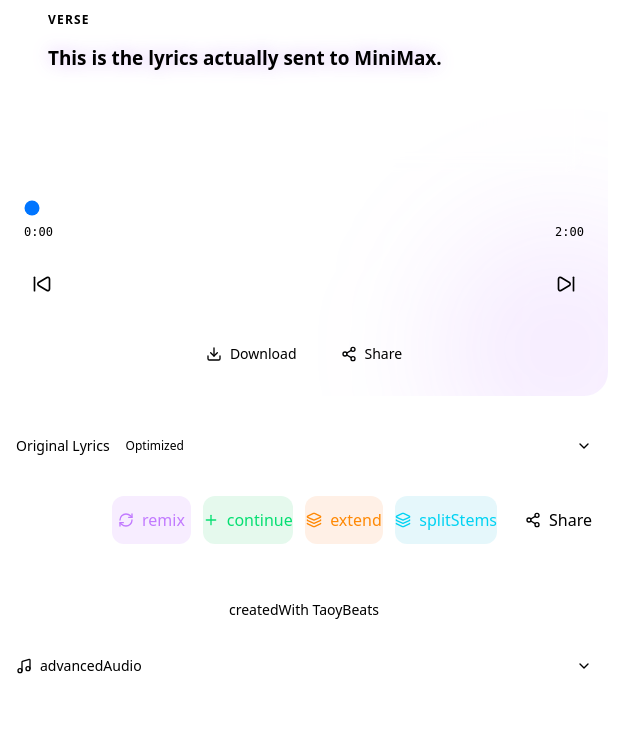
Song detail lyrics rendering › shows both the generated lyrics and the original lyrics when compression was applied
(page scrolled)
Expected: the text "This is the lyrics actually sent to MiniMax." is shown, [48,45,442,71]
# Expand original lyrics panel
Click the text "Original Lyrics". click: {"x": 63, "y": 446}
box: [16,436,110,456]
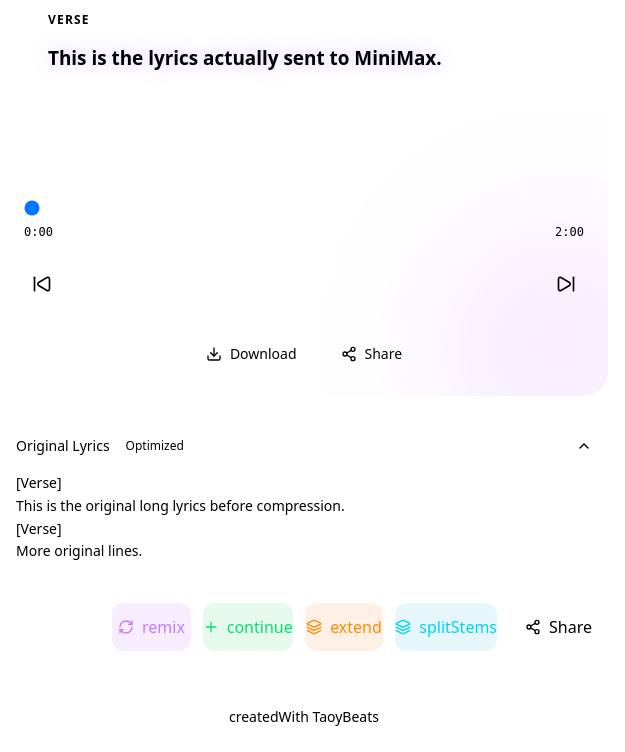
Expected: the text "This is the original long lyrics before compression." is shown, [16,473,345,560]
